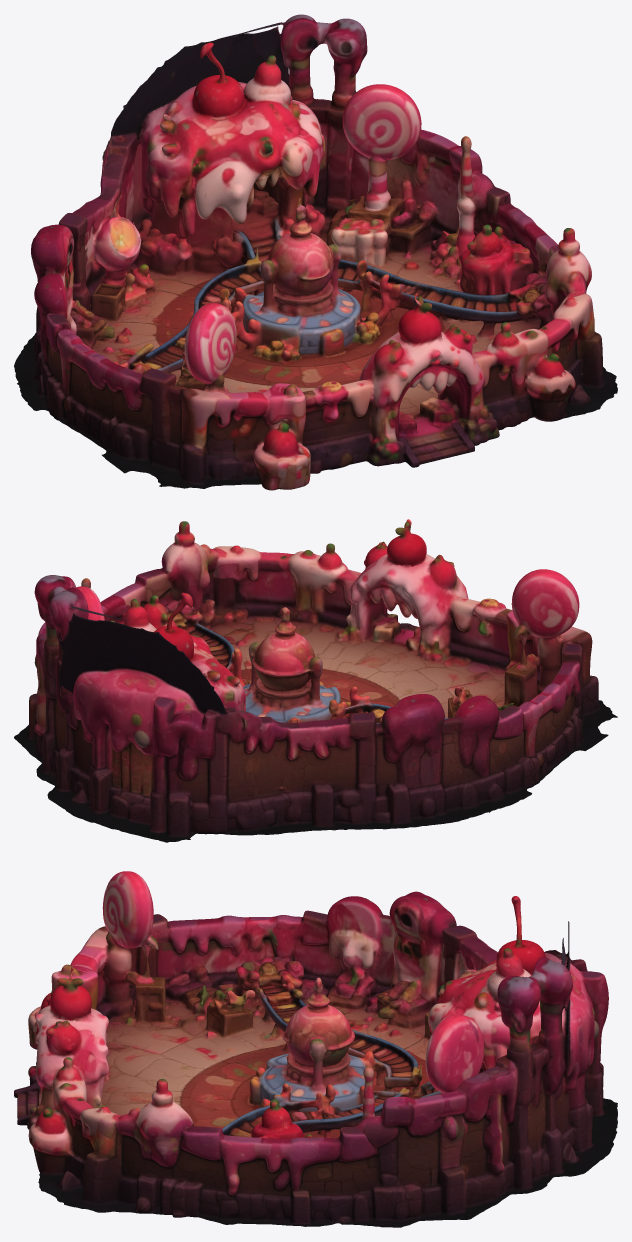
Rendered from Meshy_AI__1019074435_texture.fbx.
The picture shows the model from 3 angles, top to bottom: view 1: azimuth 30°, elevation 25°; view 2: azimuth 150°, elevation 25°; view 3: azimuth 270°, elevation 25°; orthographic projection. The views are drawn at different scales.
Visible parts, largest first — view 1: Mesh_0; view 2: Mesh_0; view 3: Mesh_0.
Boxes of the visible parts, bbox=[...] form: Mesh_0: bbox=[14, 14, 617, 490]; Mesh_0: bbox=[14, 519, 617, 842]; Mesh_0: bbox=[14, 871, 617, 1227].
Size of the model in its own units: 180 by 77.41 by 190.
1 material, 1 textured.
